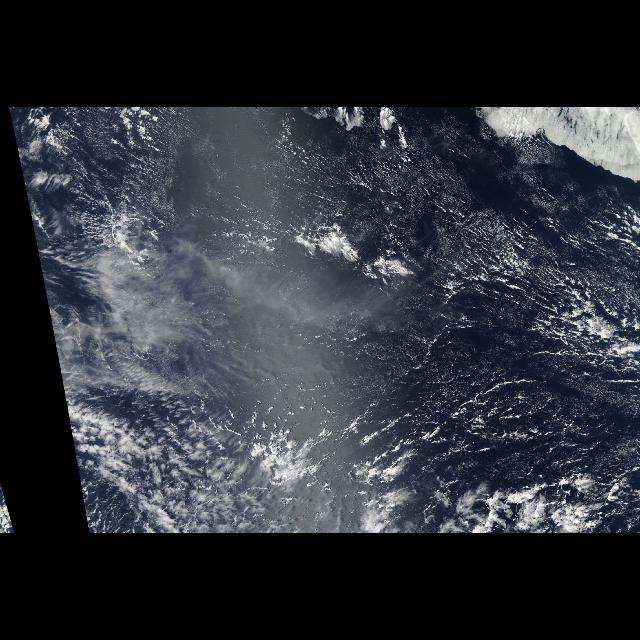Gravel: (294, 376, 550, 492)
Sugar: (82, 119, 636, 458)
